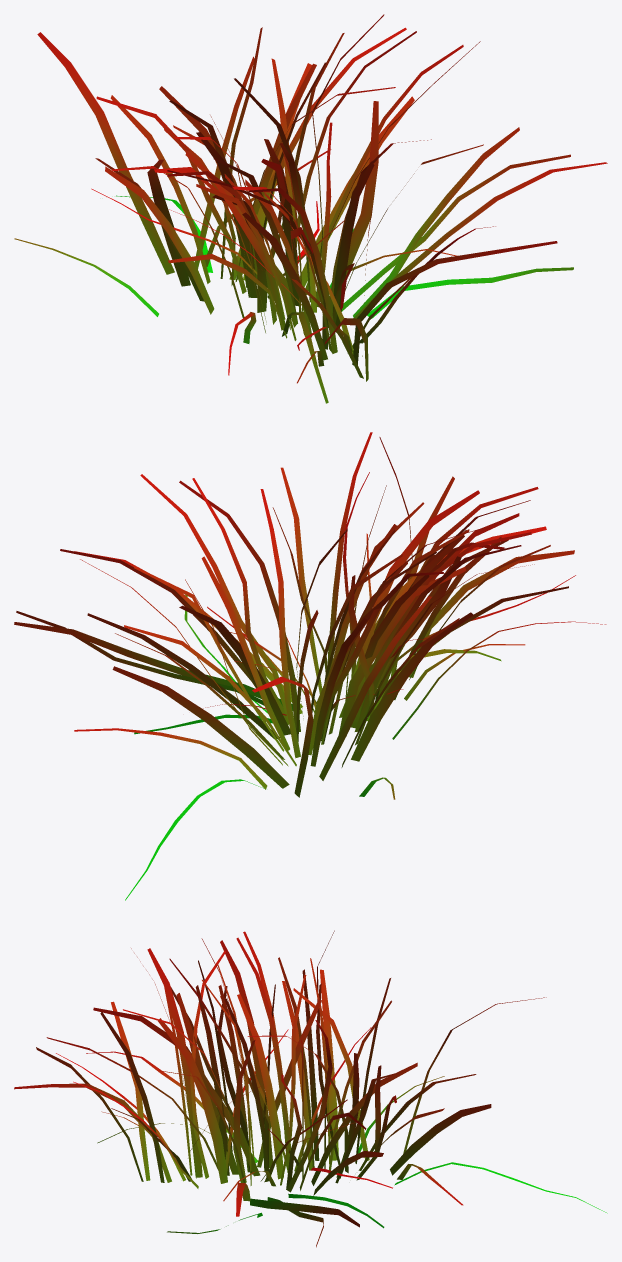
Rendered from Var7_LOD2.fbx.
The picture shows the model from 3 angles, top to bottom: view 1: azimuth 30°, elevation 25°; view 2: azimuth 150°, elevation 25°; view 3: azimuth 270°, elevation 25°; orthographic projection. The views are drawn at different scales.
Visible parts, largest first — view 1: _rg1u_Var7_LOD2; view 2: _rg1u_Var7_LOD2; view 3: _rg1u_Var7_LOD2.
Boxes of the visible parts, box(x1,y1,x2,y2) form: _rg1u_Var7_LOD2: box(14, 14, 607, 403); _rg1u_Var7_LOD2: box(14, 432, 606, 900); _rg1u_Var7_LOD2: box(14, 930, 607, 1247).
Bounding box in the file's own units: 23.66 × 12.98 × 29.62.
